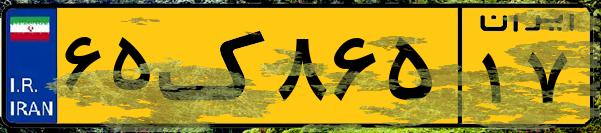1: (475, 38, 525, 113)
5: (385, 28, 445, 110), (110, 28, 158, 98)
6: (330, 28, 385, 110), (57, 26, 110, 100)
7: (525, 38, 570, 115)
8: (270, 28, 330, 110)
ک: (158, 12, 270, 120)
